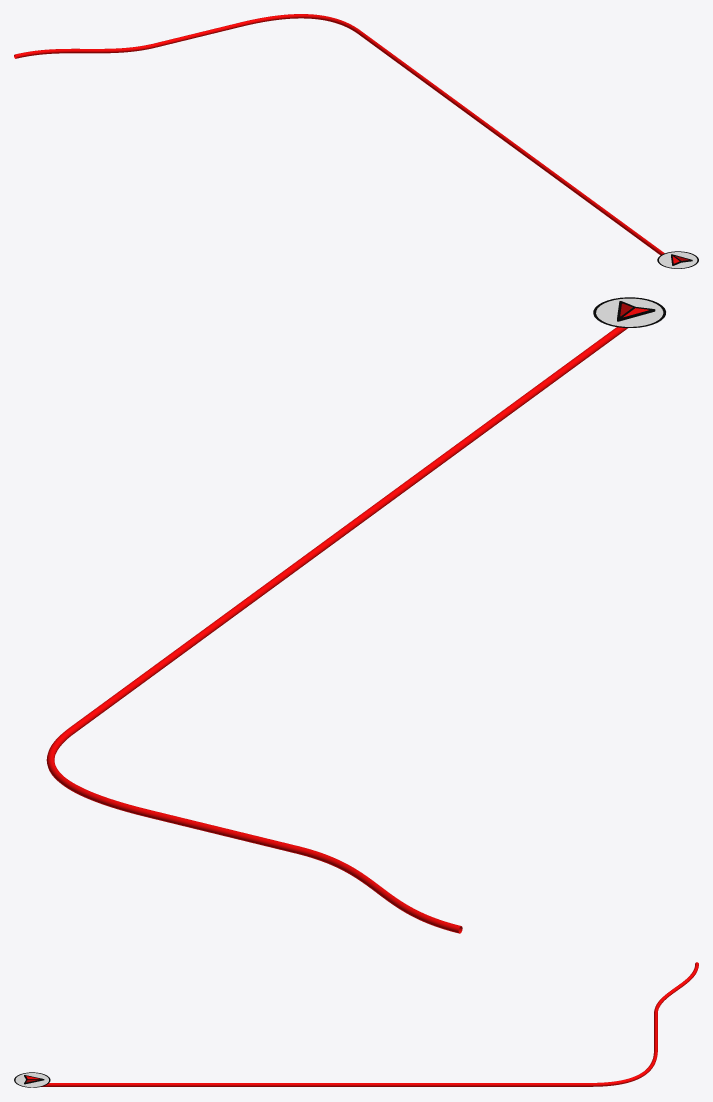
Rendered from route_592294ae-a0ca-4582-808f-fd0aed3f5bca_de_single.glb.
The picture shows the model from 3 angles, top to bottom: view 1: azimuth 30°, elevation 25°; view 2: azimuth 150°, elevation 25°; view 3: azimuth 270°, elevation 25°; orthographic projection. The views are drawn at different scales.
Parts seen in each view (by area): view 1: Interdisziplinäre aufnahme.008, Navipfeil.003; view 2: Interdisziplinäre aufnahme.008, Navipfeil.003; view 3: Interdisziplinäre aufnahme.008, Navipfeil.003.
Boxes of the visible parts, <box> form: Interdisziplinäre aufnahme.008: <box>14,14,664,255</box>; Navipfeil.003: <box>657,251,698,268</box>; Interdisziplinäre aufnahme.008: <box>46,327,627,933</box>; Navipfeil.003: <box>593,297,665,327</box>; Interdisziplinäre aufnahme.008: <box>41,962,698,1086</box>; Navipfeil.003: <box>14,1072,50,1087</box>.
Bounding box in the file's own units: 3.4 × 0.091 × 7.66.
